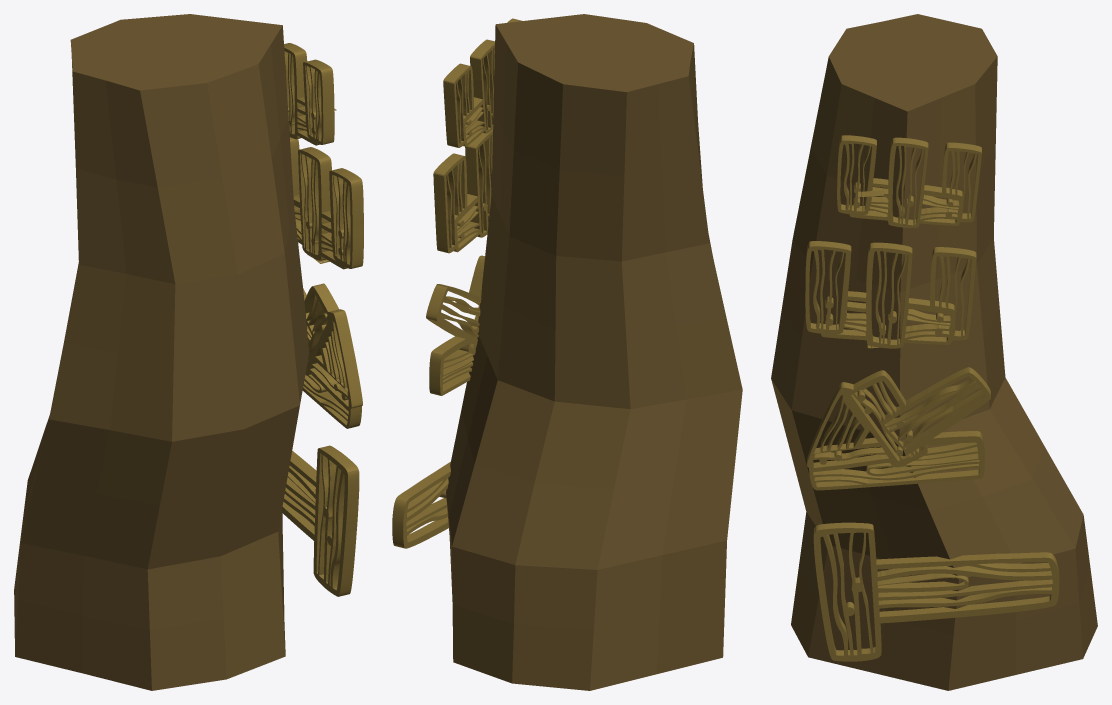
The model's file is tree_stump.fbx.
3 renders of one model, left to right at view 1: azimuth 30°, elevation 25°; view 2: azimuth 150°, elevation 25°; view 3: azimuth 270°, elevation 25°, orthographic. The views are drawn at different scales.
Parts seen in each view (by area): view 1: pCylinder11, polySurface42, polySurface44, polySurface43, polySurface47; view 2: pCylinder11, polySurface44, polySurface43, polySurface47, polySurface42; view 3: pCylinder11, polySurface43, polySurface42, polySurface44, polySurface47.
Part boxes in pixels (box(x1,y1,x2,y2)): pCylinder11: box(14, 14, 309, 690); polySurface42: box(282, 445, 359, 596); polySurface44: box(290, 137, 363, 269); polySurface43: box(302, 283, 362, 428); polySurface47: box(284, 43, 334, 145); pCylinder11: box(446, 14, 742, 690); polySurface44: box(433, 129, 492, 253); polySurface43: box(426, 255, 484, 395); polySurface47: box(443, 18, 521, 147); polySurface42: box(392, 461, 450, 548); pCylinder11: box(771, 14, 1097, 690); polySurface43: box(807, 367, 990, 490); polySurface42: box(813, 522, 1059, 661); polySurface44: box(805, 241, 976, 348); polySurface47: box(837, 135, 981, 227).
Size of the model in its own units: 62.08 by 123 by 64.11.
